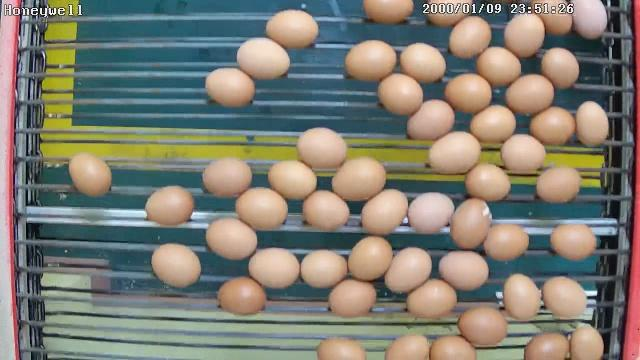egg: (330, 156, 388, 203), (425, 129, 482, 176), (293, 126, 349, 172), (234, 38, 292, 82), (234, 185, 288, 232), (447, 195, 493, 250), (204, 216, 260, 261), (382, 245, 432, 295), (404, 275, 458, 320), (359, 188, 408, 237), (343, 39, 397, 83), (247, 246, 301, 290), (264, 9, 320, 51), (405, 96, 456, 142), (438, 248, 490, 293), (150, 243, 202, 288), (456, 304, 509, 348), (203, 66, 255, 110), (200, 156, 252, 200), (266, 158, 318, 202), (406, 189, 455, 235), (502, 11, 546, 62), (327, 276, 378, 320), (216, 275, 268, 318), (474, 44, 522, 90), (504, 72, 554, 116), (376, 73, 426, 117), (143, 184, 194, 227), (348, 234, 393, 282), (442, 71, 492, 114), (542, 274, 588, 320), (68, 152, 114, 198), (499, 132, 547, 176), (528, 104, 576, 148), (398, 42, 446, 86), (301, 189, 350, 232), (469, 102, 516, 146), (448, 13, 492, 60), (502, 272, 542, 323), (550, 220, 598, 262), (534, 162, 582, 204), (463, 162, 512, 202), (482, 222, 530, 262), (301, 248, 348, 288), (540, 46, 580, 90), (576, 99, 610, 148), (522, 329, 570, 360), (569, 323, 606, 360)
